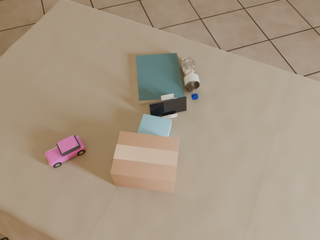book: (136, 53, 184, 104)
bottle: (181, 57, 200, 100)
box: (110, 131, 179, 193), (138, 114, 171, 136)
phone: (149, 96, 186, 117)
toy_car: (45, 135, 86, 168)
